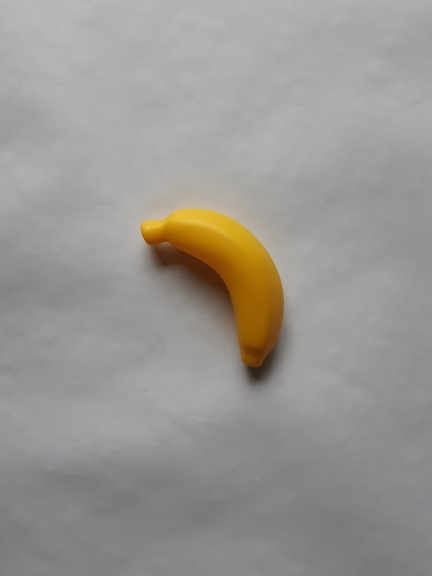banana: (129, 199, 299, 388)
